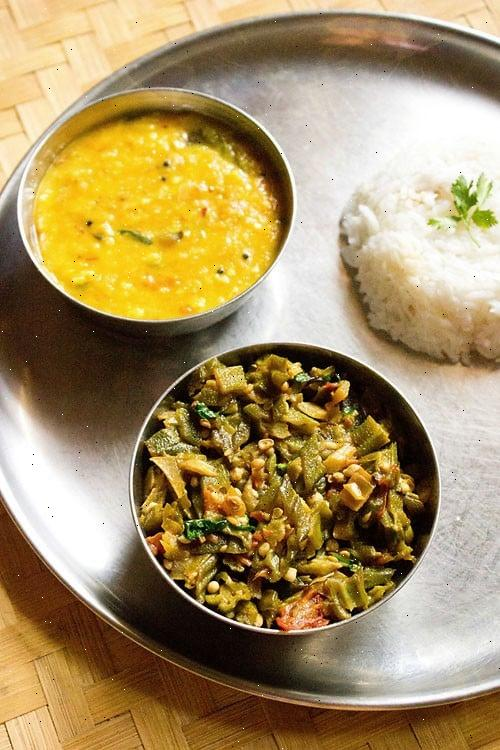bhindi: (165, 369, 386, 608)
daal: (55, 125, 249, 312)
rice: (367, 169, 500, 339)
